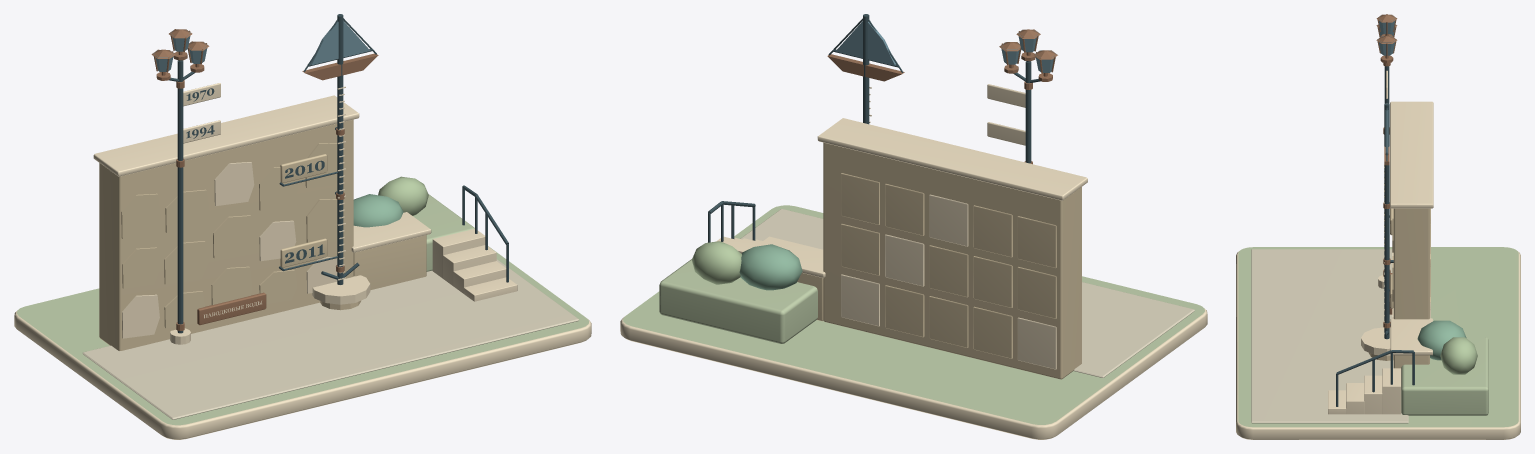
The model's file is flood-scale.glb.
The picture shows the model from 3 angles, left to right: view 1: azimuth 30°, elevation 25°; view 2: azimuth 150°, elevation 25°; view 3: azimuth 270°, elevation 25°; orthographic projection. The views are drawn at different scales.
Parts seen in each view (by area): view 1: flood-scale · soft low-poly; view 2: flood-scale · soft low-poly; view 3: flood-scale · soft low-poly.
Part boxes in pixels (bbox=[...]): flood-scale · soft low-poly: bbox=[14, 14, 591, 439]; flood-scale · soft low-poly: bbox=[620, 14, 1207, 439]; flood-scale · soft low-poly: bbox=[1236, 14, 1520, 439].
Size of the model in its own units: 7.1 by 5.19 by 4.7.
